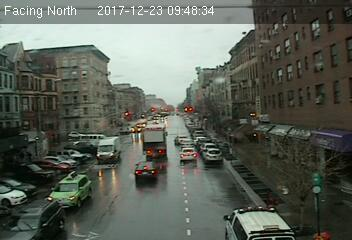car: (46, 170, 94, 208), (134, 160, 158, 181), (204, 147, 222, 162), (179, 147, 197, 161), (179, 137, 194, 148)
police: (220, 203, 302, 240)
truck: (96, 136, 121, 165)
